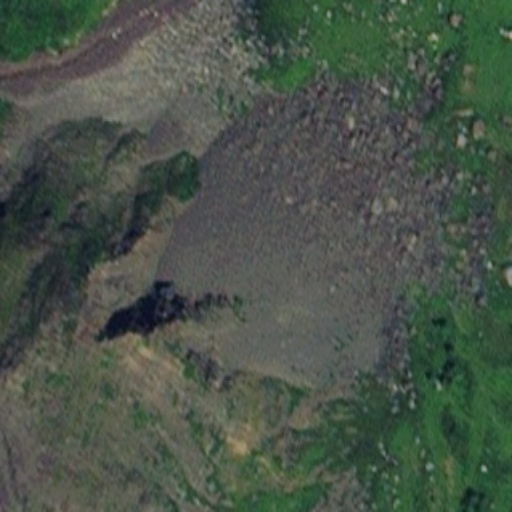landslide: (71, 208, 225, 389)
